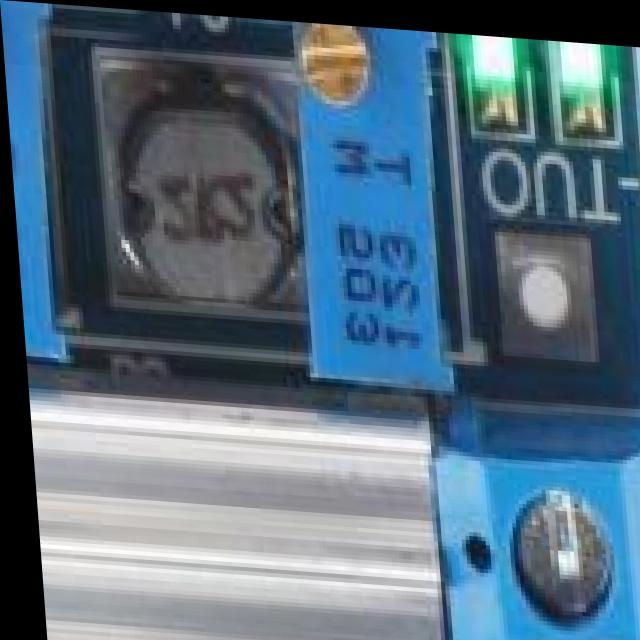connector: (434, 404, 640, 640)
inductor: (109, 30, 326, 322)
potentiometer: (288, 17, 477, 395), (0, 0, 86, 380)
